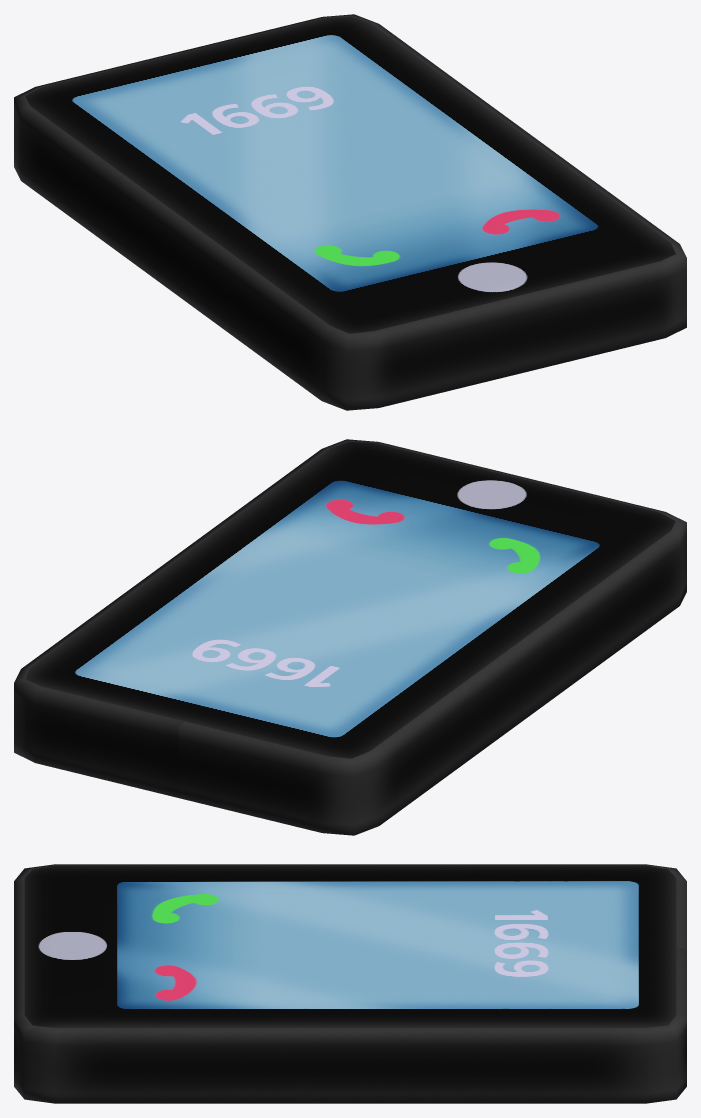
File: phone.fbx
The picture shows the model from 3 angles, top to bottom: view 1: azimuth 30°, elevation 25°; view 2: azimuth 150°, elevation 25°; view 3: azimuth 270°, elevation 25°; orthographic projection. The views are drawn at different scales.
Visible parts, largest first — view 1: SmartPhone_Mesh; view 2: SmartPhone_Mesh; view 3: SmartPhone_Mesh.
Part boxes in pixels (left/top/right/bottom): SmartPhone_Mesh: left=14, top=14, right=686, bottom=410; SmartPhone_Mesh: left=14, top=439, right=686, bottom=835; SmartPhone_Mesh: left=14, top=864, right=686, bottom=1103.
Bounding box in the file's own units: 1.08 × 0.2233 × 1.79.
